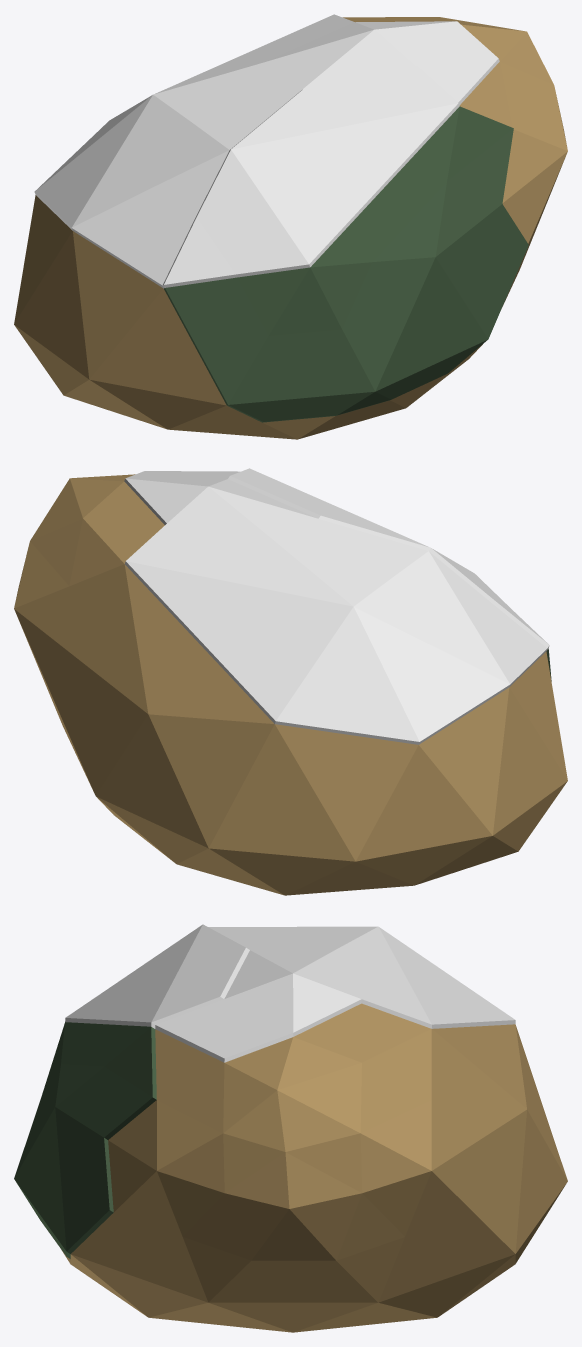
The model's file is MossStoneSb.fbx.
3 views of the same model, one above another, from view 1: azimuth 30°, elevation 25°; view 2: azimuth 150°, elevation 25°; view 3: azimuth 270°, elevation 25° (orthographic). The views are drawn at different scales.
Visible parts, largest first — view 1: MossStoneS.001; view 2: MossStoneS.001; view 3: MossStoneS.001.
Boxes of the visible parts, x1=… form: MossStoneS.001: x1=14, y1=14, x2=567, y2=439; MossStoneS.001: x1=14, y1=468, x2=567, y2=895; MossStoneS.001: x1=14, y1=924, x2=567, y2=1332.
Bounding box in the file's own units: 1084 × 602 × 919.
